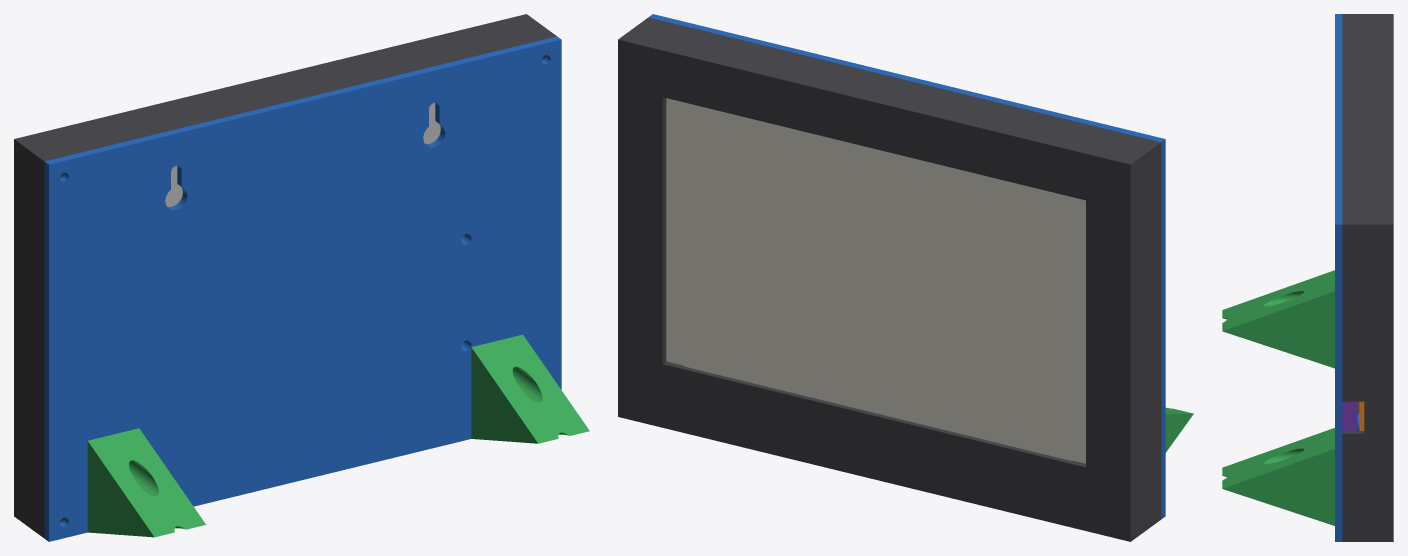
The model's file is assembly.obj.
3 views of the same model, side by side, from view 1: azimuth 30°, elevation 25°; view 2: azimuth 150°, elevation 25°; view 3: azimuth 270°, elevation 25° (orthographic). The views are drawn at different scales.
Visible parts, largest first — view 1: back_cover, frame, foot_1, foot_2, backer; view 2: ref_panel, frame, back_cover, foot_1; view 3: frame, foot_1, foot_2, back_cover, ref_esp32.
Part boxes in pixels (bbox=[...]): back_cover: bbox=[44, 36, 561, 541]; frame: bbox=[14, 14, 556, 538]; foot_1: bbox=[87, 428, 205, 537]; foot_2: bbox=[471, 334, 589, 443]; backer: bbox=[165, 102, 440, 206]; ref_panel: bbox=[666, 98, 1085, 463]; frame: bbox=[618, 17, 1161, 541]; back_cover: bbox=[649, 14, 1165, 519]; foot_1: bbox=[1165, 407, 1193, 452]; frame: bbox=[1342, 14, 1393, 541]; foot_1: bbox=[1222, 270, 1334, 368]; foot_2: bbox=[1222, 428, 1334, 525]; back_cover: bbox=[1335, 14, 1359, 541]; ref_esp32: bbox=[1342, 401, 1357, 430].
Size of the model in its own units: 199 by 140 by 68.5.
